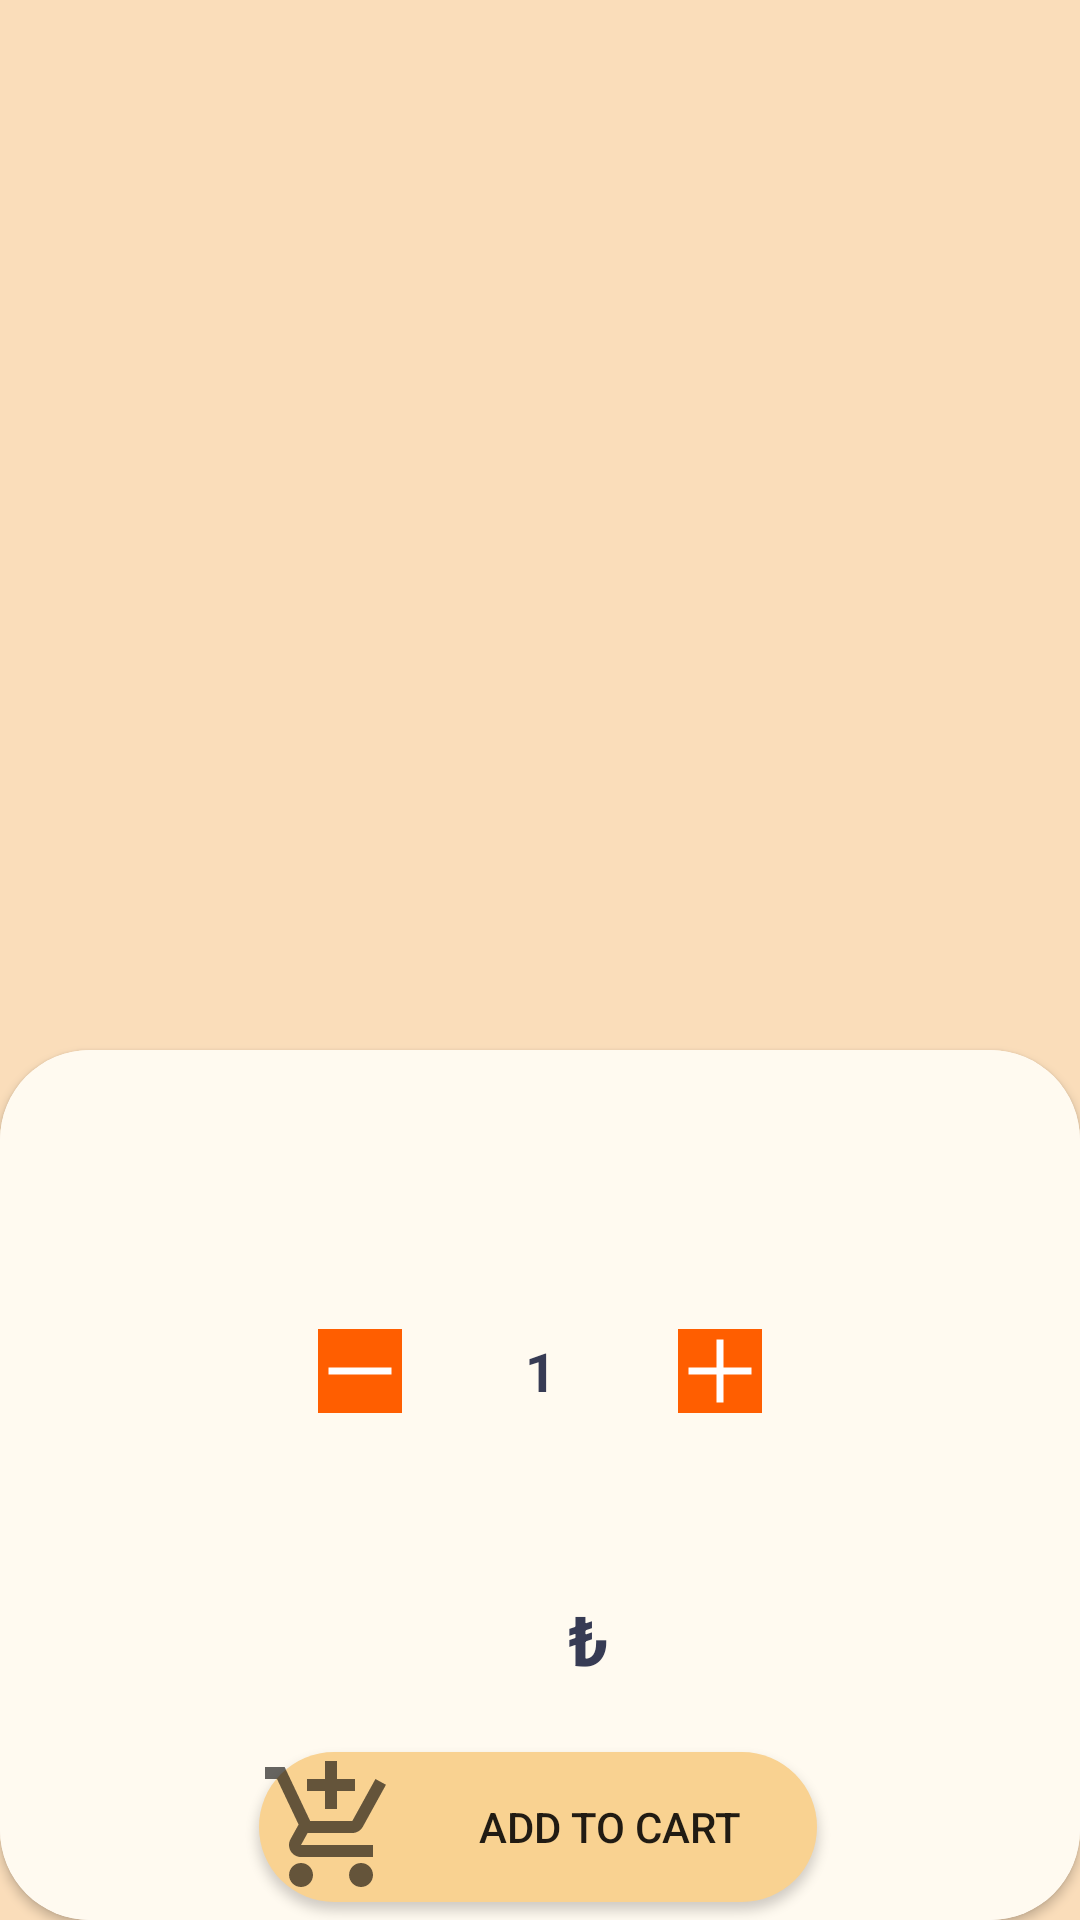

Locate icon controls on the screen. Image size 1080 × 1920, boxes as (x1, y1, x2, y2).
minus: (318, 1329, 402, 1413)
plus: (678, 1329, 762, 1413)
